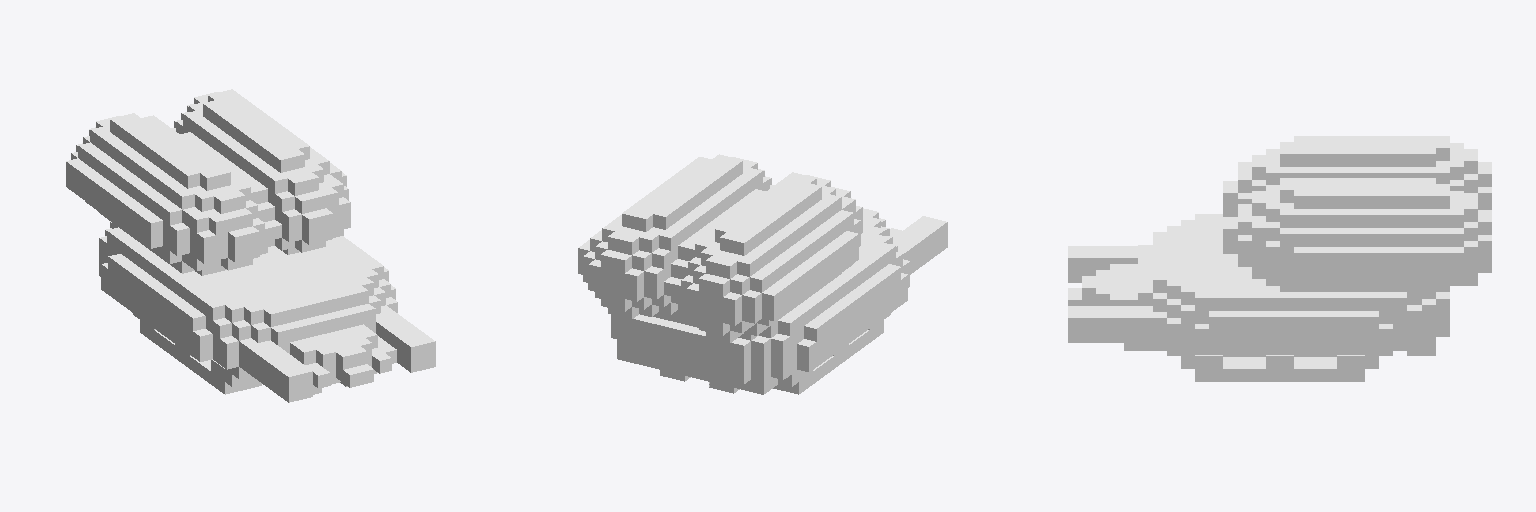
File: FlameTank.obj
3 renders of one model, left to right at view 1: azimuth 30°, elevation 25°; view 2: azimuth 150°, elevation 25°; view 3: azimuth 270°, elevation 25°, orthographic.
Parts seen in each view (by area): view 1: object 1; view 2: object 1; view 3: object 1.
Part boxes in pixels (bbox=[...]): object 1: bbox=[66, 89, 435, 402]; object 1: bbox=[578, 154, 947, 394]; object 1: bbox=[1068, 136, 1491, 381].
Size of the model in its own units: 1.6 by 1.4 by 3.